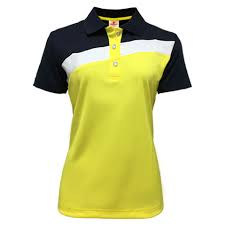S_polo shirt: (44, 3, 192, 219)
